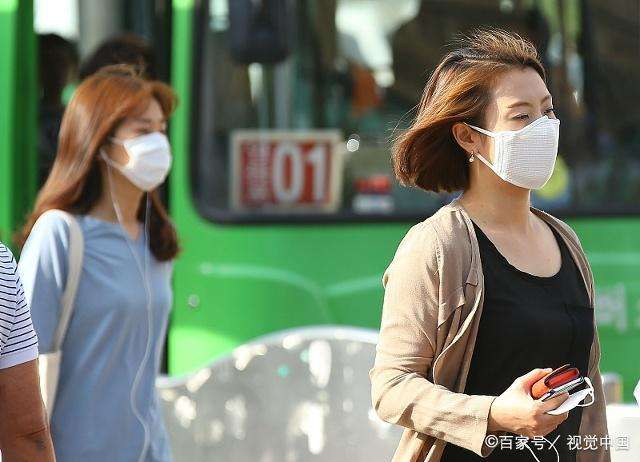mask: (479, 75, 567, 193), (109, 96, 174, 192)
